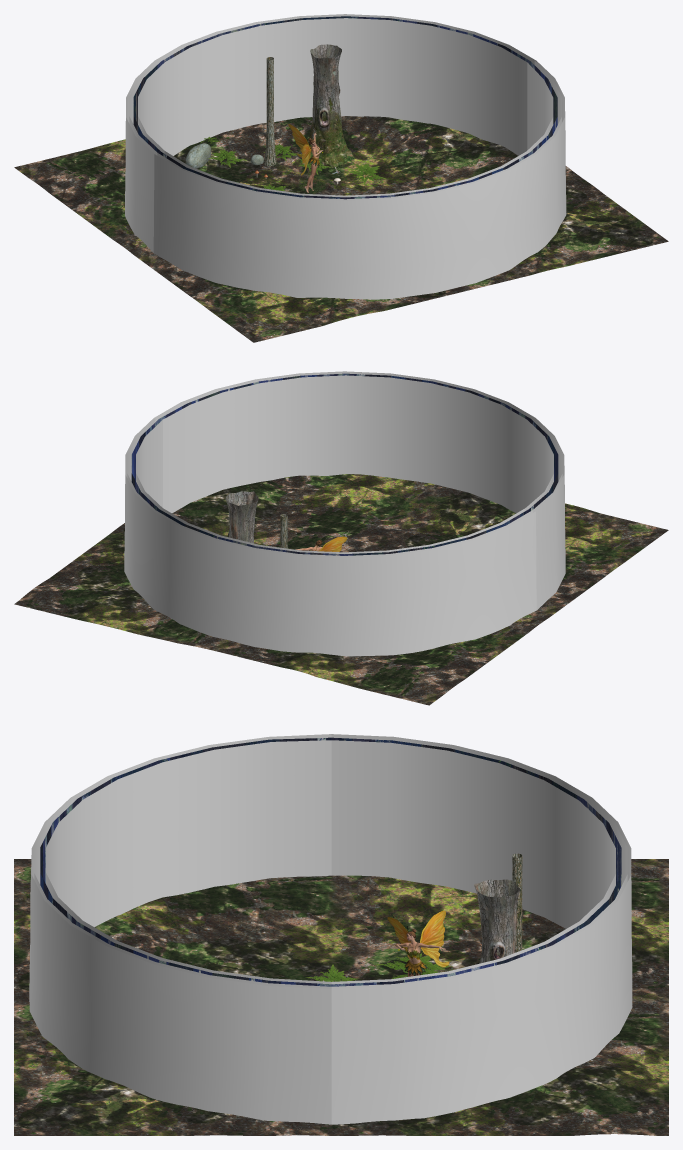
The picture shows the model from 3 angles, top to bottom: view 1: azimuth 30°, elevation 25°; view 2: azimuth 150°, elevation 25°; view 3: azimuth 270°, elevation 25°; orthographic projection. The views are drawn at different scales.
Parts seen in each view (by area): view 1: TilingTerrain, SkyCentre_Wallsback, SkyRight_Wallsback, Weather_Right, Weather_Centre, Trunk, SkyLeft, SkyLeft_Wallsback, Weather_Left, Weather_Left_Wallsback, Tree, Cloud_Right (+8 smaller); view 2: TilingTerrain, SkyLeft, SkyCentre, Weather_Centre_Wallsback, Weather_Left_Wallsback, SkyRight_Wallsback, SkyRight, Weather_Right, Weather_Right_Wallsback, Trunk, Cloud_Left, Cloud_Left_Wallsback (+8 smaller); view 3: TilingTerrain, SkyLeft_Wallsback, SkyRight, Weather_Right_Wallsback, Weather_Left, SkyCentre_Wallsback, SkyCentre, Weather_Centre, Weather_Centre_Wallsback, Trunk, Wing3In, Cloud_Right_Wallsback (+14 smaller).
Boxes of the visible parts, x1,y1,x2,y2 form: TilingTerrain: (14,116,668,342); SkyCentre_Wallsback: (345,154,537,299); SkyRight_Wallsback: (153,154,345,298); Weather_Right: (346,18,527,155); Weather_Centre: (164,18,345,155); Trunk: (298,44,354,167); SkyLeft: (125,61,154,252); SkyLeft_Wallsback: (536,61,566,251); Weather_Left: (138,63,164,153); Weather_Left_Wallsback: (526,62,553,153); Tree: (264,57,276,165); Cloud_Right: (346,14,534,64); TilingTerrain: (14,474,668,705); SkyLeft: (345,511,536,656); SkyCentre: (153,511,344,656); Weather_Centre_Wallsback: (346,375,526,513); Weather_Left_Wallsback: (163,375,345,513); SkyRight_Wallsback: (536,418,565,609); SkyRight: (124,418,153,608); Weather_Right: (136,420,162,510); Weather_Right_Wallsback: (525,420,553,510); Trunk: (225,491,258,543); Cloud_Left: (344,510,532,557); Cloud_Left_Wallsback: (155,372,345,421); TilingTerrain: (14,859,668,1135); SkyLeft_Wallsback: (68,925,331,1124); SkyRight: (331,925,593,1124); Weather_Right_Wallsback: (82,740,331,927); Weather_Left: (331,740,579,928); SkyCentre_Wallsback: (29,798,70,1058); SkyCentre: (592,798,632,1057); Weather_Centre: (579,801,615,925); Weather_Centre_Wallsback: (46,800,82,924); Trunk: (474,879,520,963); Wing3In: (387,910,449,967); Cloud_Right_Wallsback: (72,735,331,802).
Size of the model in its own units: 6.27 by 1.6 by 6.27.
